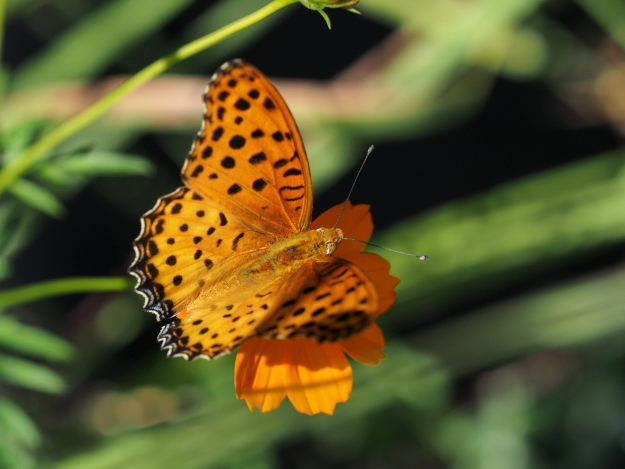Argyreus hyperbius: (125, 48, 436, 368)
butterfly: (127, 50, 438, 370)
